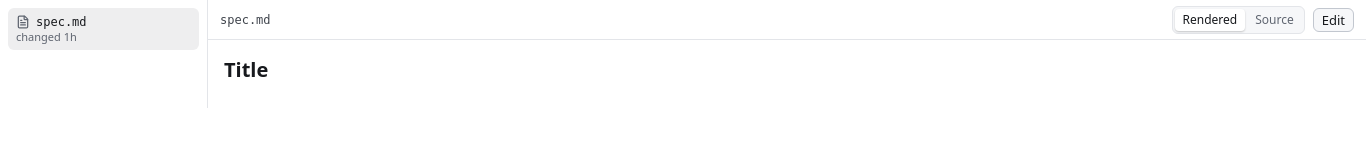
Test: DocsTab › asks before it drops an edit on Cancel
Expected: the heading "Title" is shown, [224, 56, 268, 83]
Click the button "Edit".
click(1333, 20)  # box [1313, 8, 1354, 32]
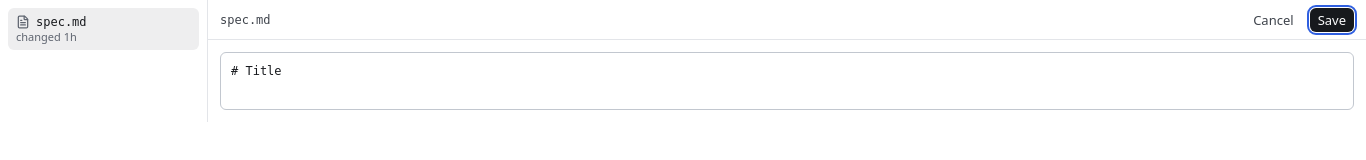
Type "more" into the text box named "Text of spec.md".
click(787, 81); type("more")  # box [220, 52, 1354, 110]
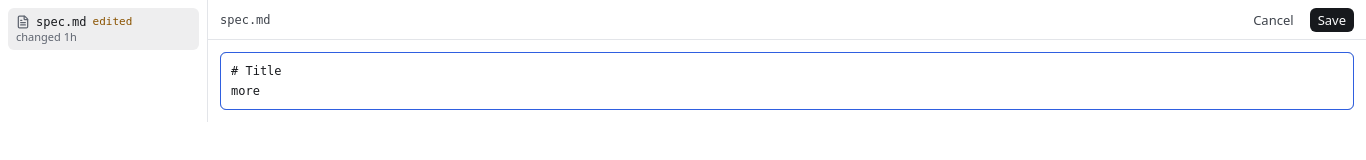
Click the button "Cancel".
click(1273, 20)  # box [1245, 8, 1302, 32]
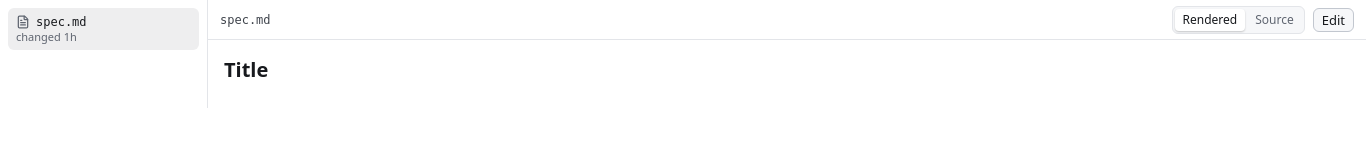
Now the heading "Title" is shown, box [224, 56, 268, 83]
